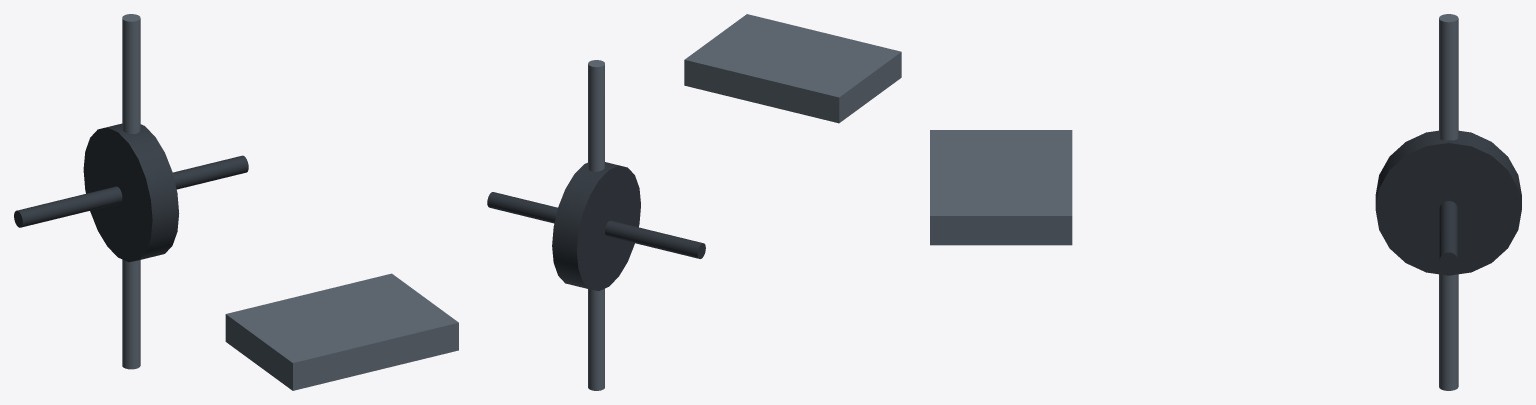
Rendered from landmine_row.glb.
The picture shows the model from 3 angles, left to right: view 1: azimuth 30°, elevation 25°; view 2: azimuth 150°, elevation 25°; view 3: azimuth 270°, elevation 25°; orthographic projection. The views are drawn at different scales.
Parts seen in each view (by area): view 1: landmineBase, plate, landmineBar, grip; view 2: landmineBase, plate, landmineBar, grip; view 3: landmineBase, plate, landmineBar, grip.
Boxes of the visible parts, <box> form: landmineBase: <box>225,273,458,390</box>; plate: <box>83,123,179,262</box>; landmineBar: <box>122,14,140,369</box>; grip: <box>14,155,248,227</box>; landmineBase: <box>684,14,901,123</box>; plate: <box>552,162,640,290</box>; landmineBar: <box>588,60,604,390</box>; grip: <box>487,192,705,258</box>; landmineBase: <box>930,130,1072,245</box>; plate: <box>1375,130,1521,275</box>; landmineBar: <box>1439,14,1458,390</box>; grip: <box>1439,201,1457,269</box>.
Bounding box in the file's own units: 0.68 × 1 × 1.46.
